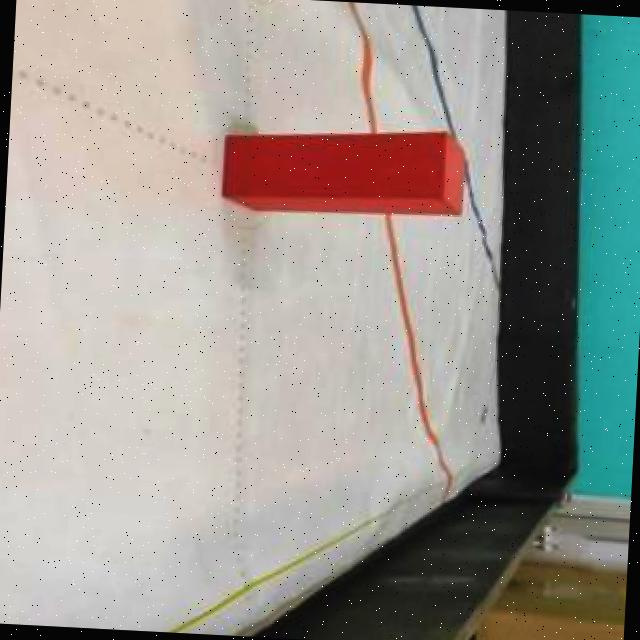redbox: (216, 118, 467, 225)
